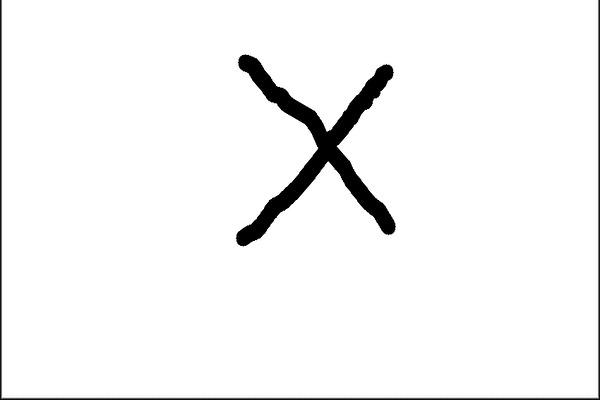Z: (216, 50, 417, 259)
